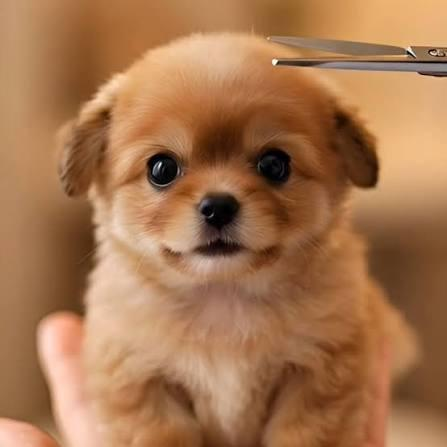puppy-dog: (57, 30, 419, 447)
